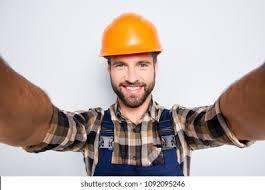helmet: (98, 12, 163, 56)
